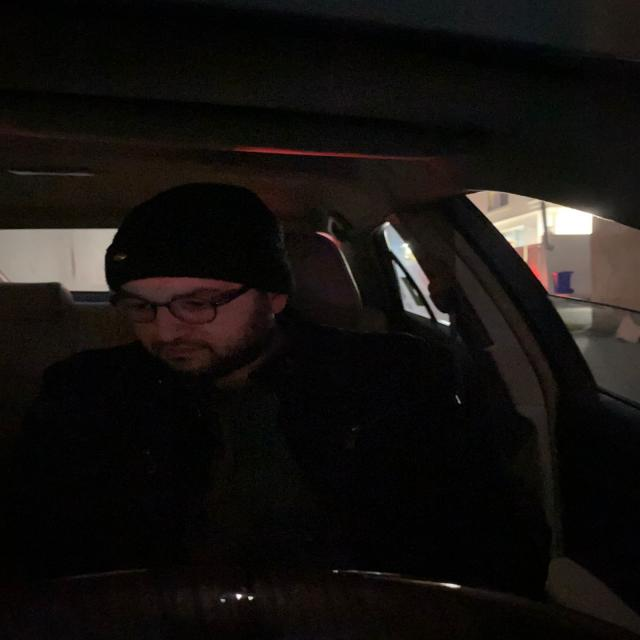person: (89, 183, 311, 383)
